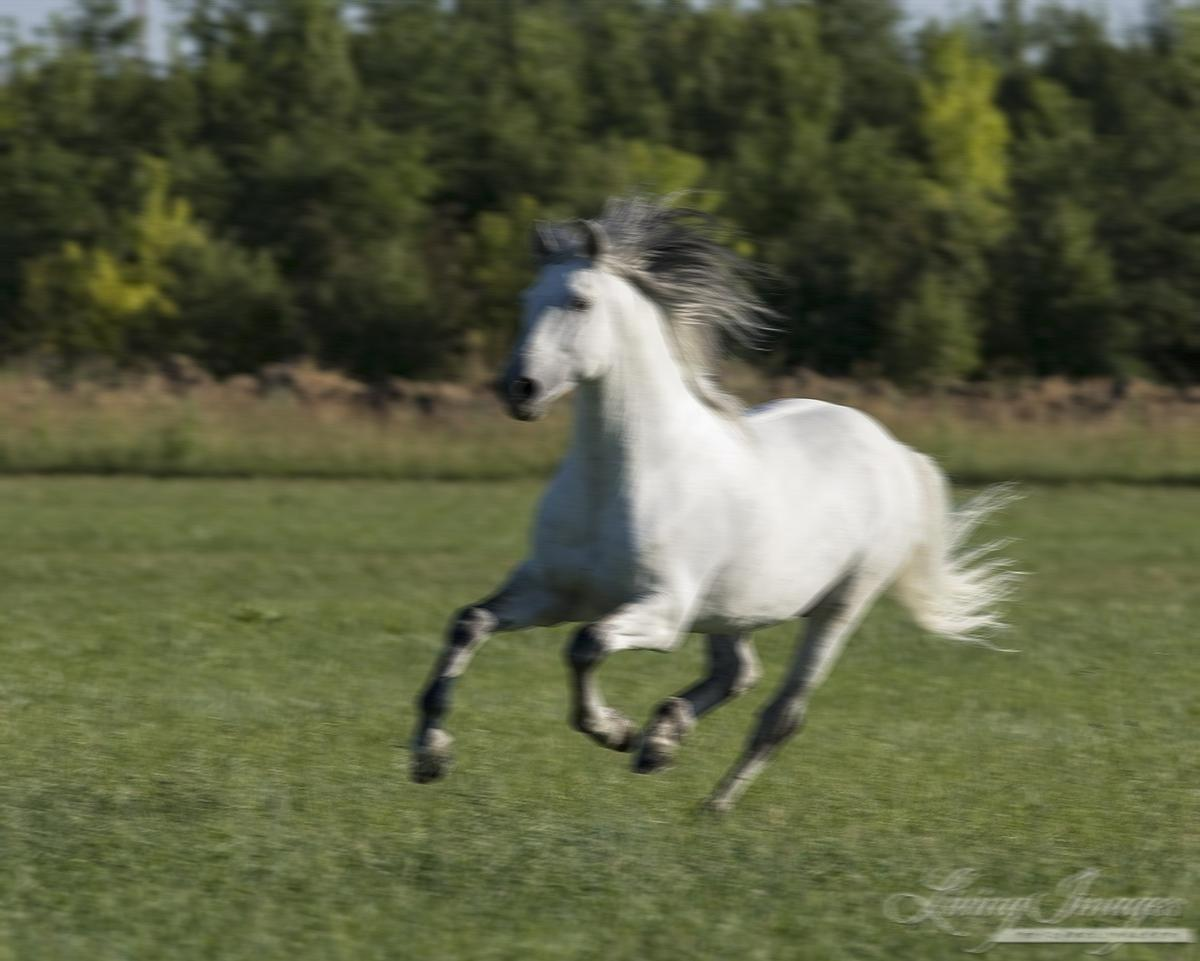horse: (394, 177, 1043, 830)
